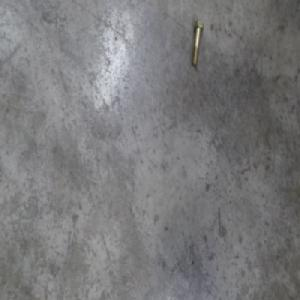Bolt: (191, 20, 204, 67)
